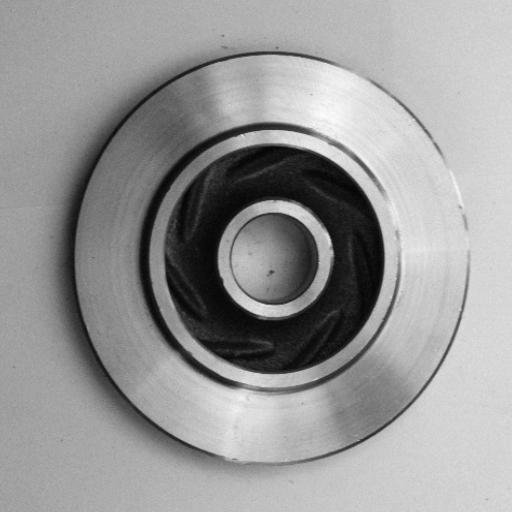scratch: (433, 146, 486, 282), (379, 184, 412, 288)
unpolished_casting: (69, 49, 475, 470)
